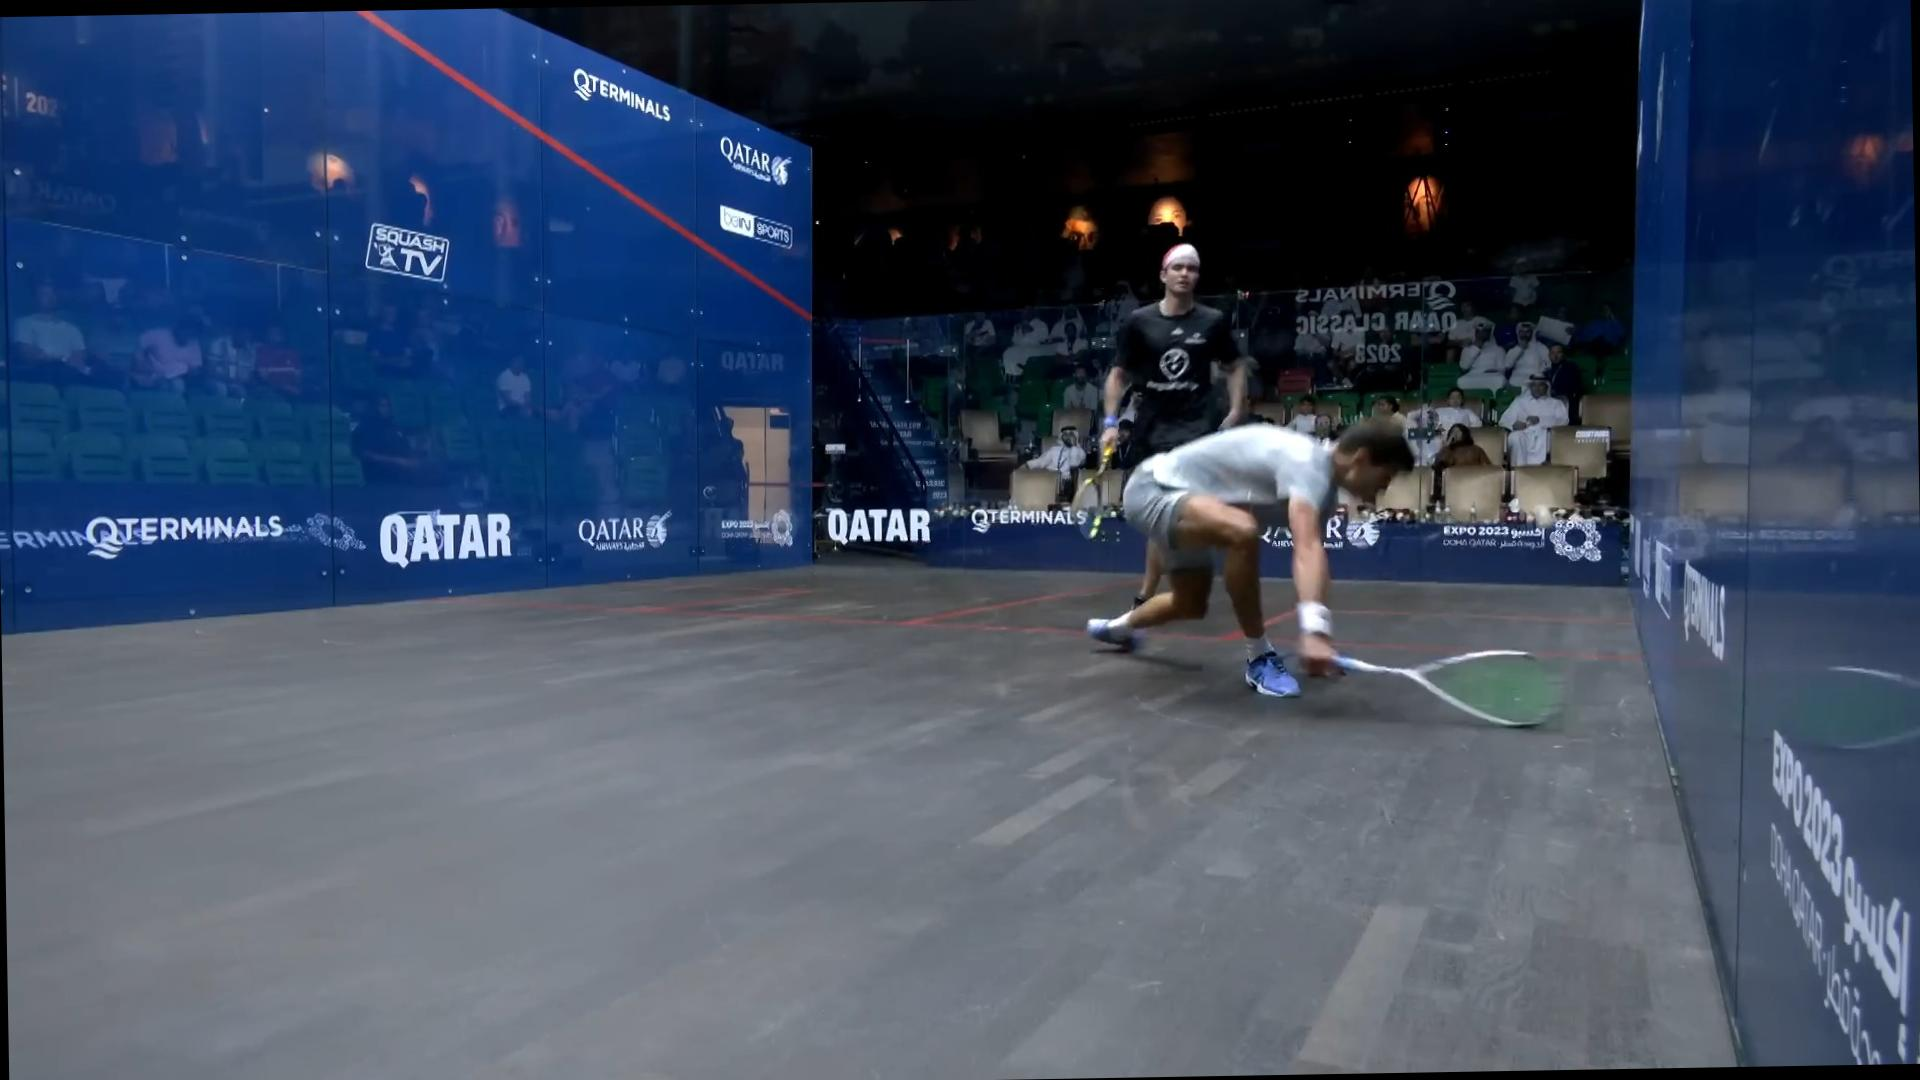Racket: (1338, 641, 1571, 738), (1068, 440, 1127, 541)
